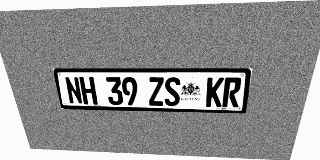3: (106, 77, 123, 105)
9: (121, 77, 138, 105)
H: (79, 77, 98, 105)
K: (205, 77, 224, 107)
N: (64, 77, 83, 104)
R: (222, 77, 242, 107)
S: (164, 77, 180, 106)
Z: (148, 77, 164, 106)
